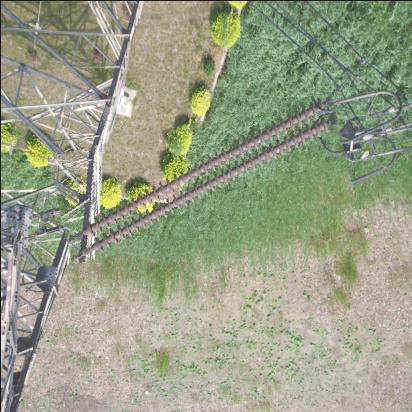insulator: (52, 108, 352, 250)
